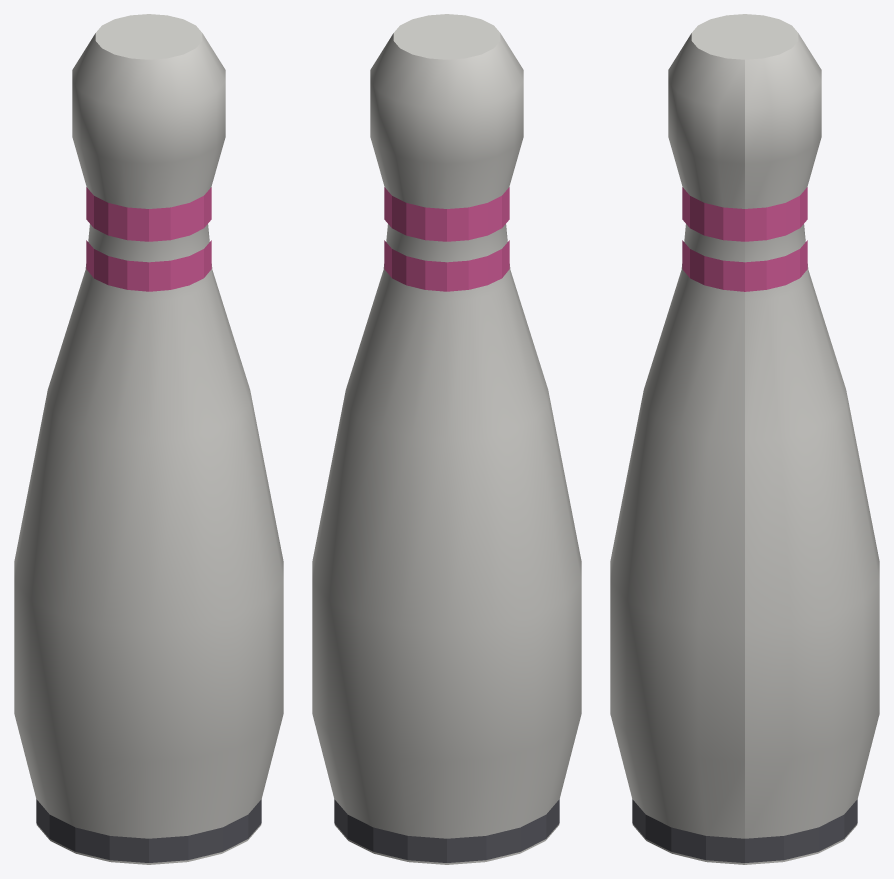
Rendered from bowling-alley-and-pool-hall-bowling-pin-a135b977__33840.glb.
The picture shows the model from 3 angles, left to right: view 1: azimuth 30°, elevation 25°; view 2: azimuth 150°, elevation 25°; view 3: azimuth 270°, elevation 25°; orthographic projection.
Parts seen in each view (by area): view 1: bowling-pin; view 2: bowling-pin; view 3: bowling-pin.
Part boxes in pixels (x1=…): bowling-pin: x1=14, y1=14, x2=283, y2=864; bowling-pin: x1=312, y1=14, x2=581, y2=864; bowling-pin: x1=610, y1=14, x2=879, y2=864.
Bounding box in the file's own units: 0.121 × 0.381 × 0.1192.
